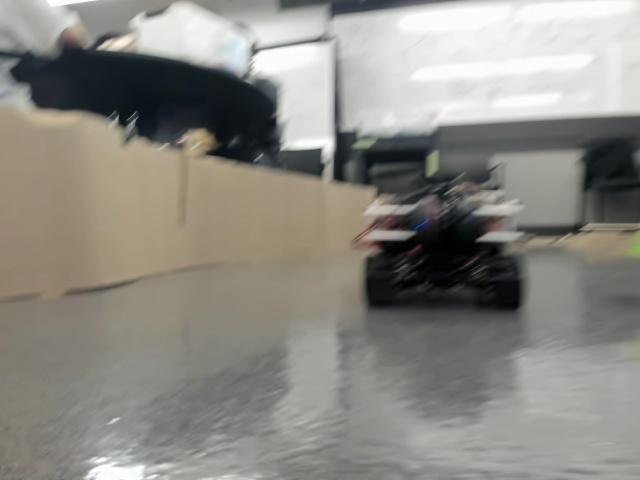Car: (363, 174, 525, 310)
